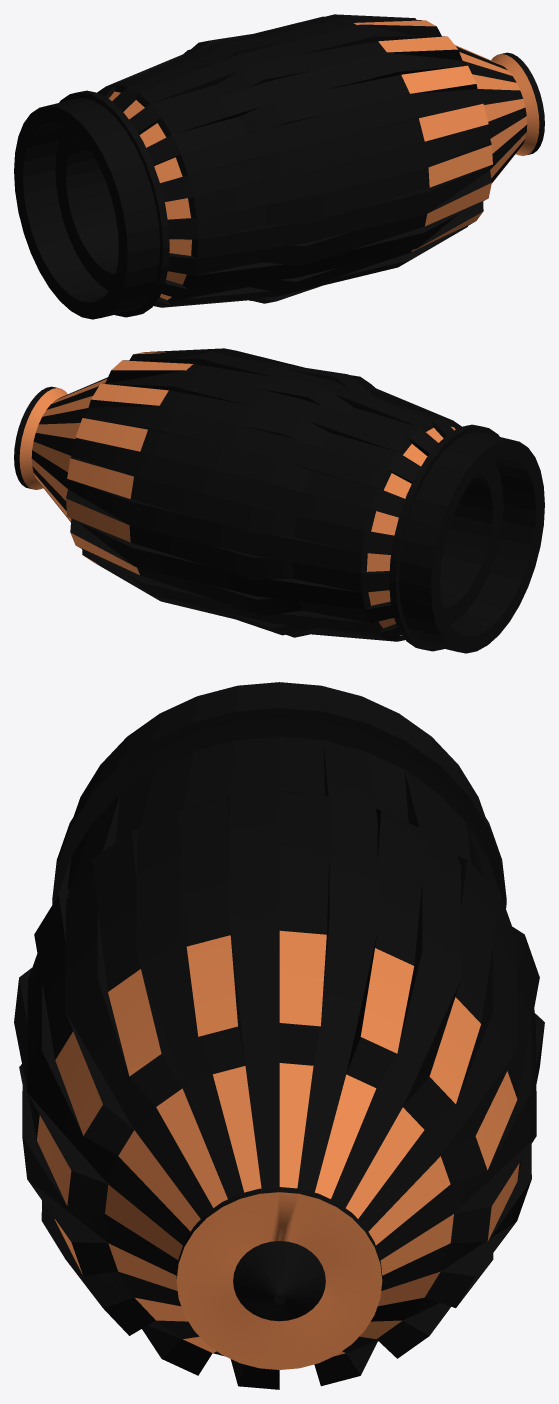
The model's file is MissileHeavy.fbx.
3 views of the same model, one above another, from view 1: azimuth 30°, elevation 25°; view 2: azimuth 150°, elevation 25°; view 3: azimuth 270°, elevation 25° (orthographic). The views are drawn at different scales.
Parts seen in each view (by area): view 1: Missile; view 2: Missile; view 3: Missile.
Boxes of the visible parts, bbox=[...] form: Missile: bbox=[14, 14, 544, 319]; Missile: bbox=[14, 348, 544, 653]; Missile: bbox=[14, 682, 544, 1389].
Size of the model in its own units: 358 by 177 by 186.
